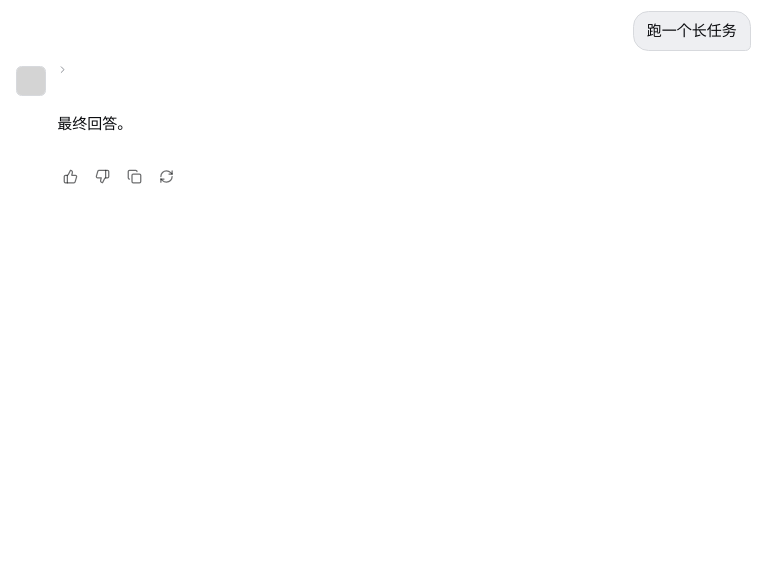
Test: MessageList process trace lifecycle › keeps intent and final fact anchors when compacting a long public timeline
Click the button with test id "process-replay-toggle": x=66, y=70 [57,62,74,77]
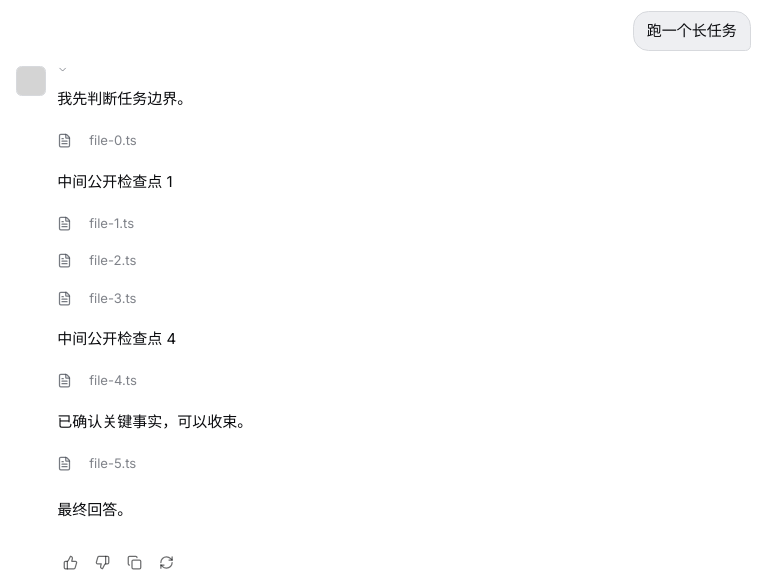
Now the number of buttons with test id "public-progress-event" is 4, box [57,89,192,108]; [57,172,173,191]; [57,329,176,348]; [57,412,252,431]
Now the text "我先判断任务边界。" is shown, box [57,89,192,108]
Now the text "已确认关键事实，可以收束。" is shown, box [57,412,252,431]
